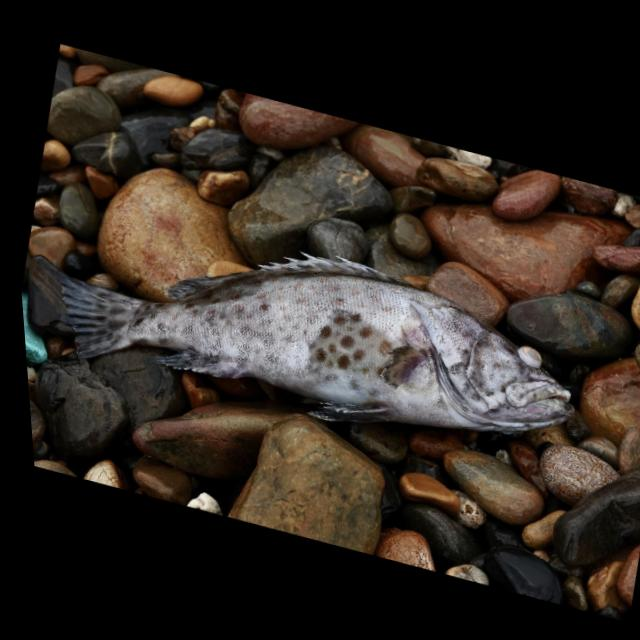Groupers: (13, 174, 600, 487)
